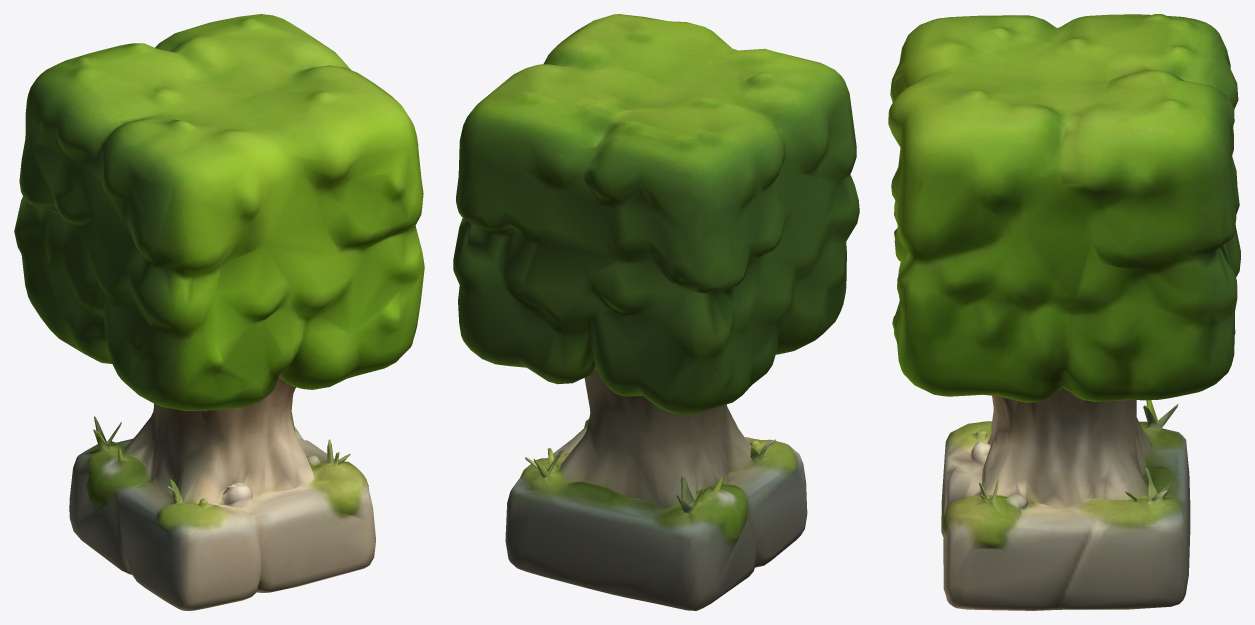
3 views of the same model, side by side, from view 1: azimuth 30°, elevation 25°; view 2: azimuth 150°, elevation 25°; view 3: azimuth 270°, elevation 25° (orthographic). The views are drawn at different scales.
Visible parts, largest first — view 1: world; view 2: world; view 3: world.
Boxes of the visible parts, left/top/right/bottom form: world: left=14, top=14, right=424, bottom=610; world: left=453, top=14, right=859, bottom=610; world: left=888, top=14, right=1240, bottom=610.
Bounding box in the file's own units: 0.6241 × 1 × 0.6377.
1 material, 1 textured.
